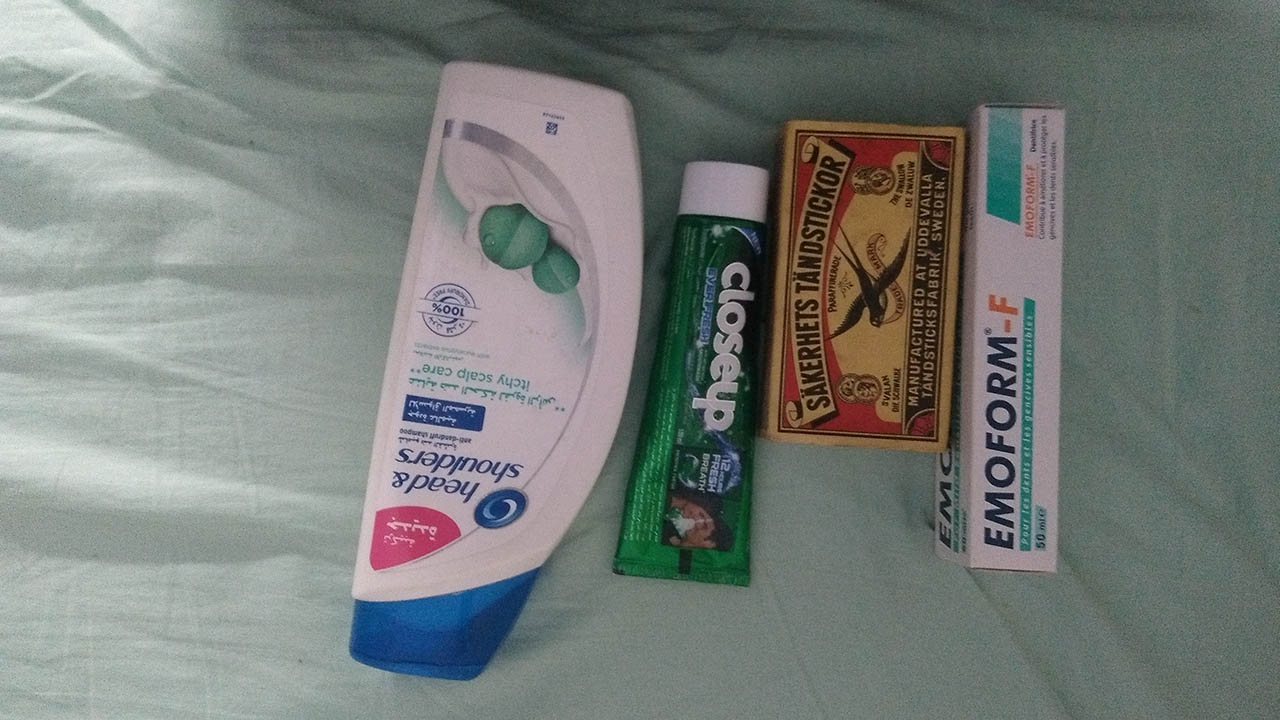Toothpaste-Closeup 3.04$: (606, 168, 774, 580)
Toothpaste-F 1.5$: (966, 94, 1073, 599)
match-sticks .90$: (758, 112, 958, 443)
shampoo-green 4.5$: (347, 83, 659, 653)
